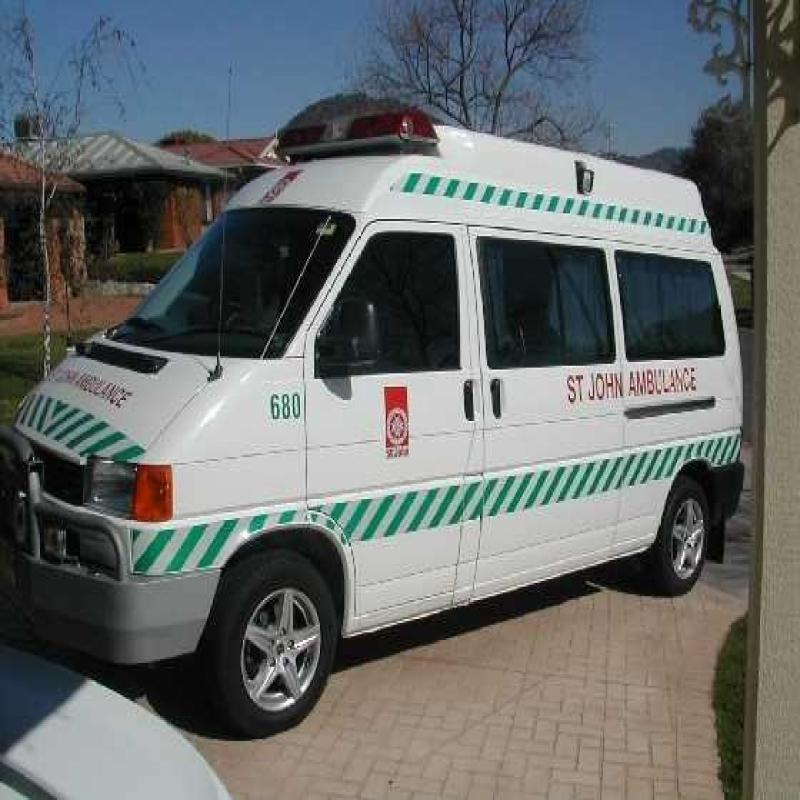AmbulanceSiren: (252, 99, 444, 166)
